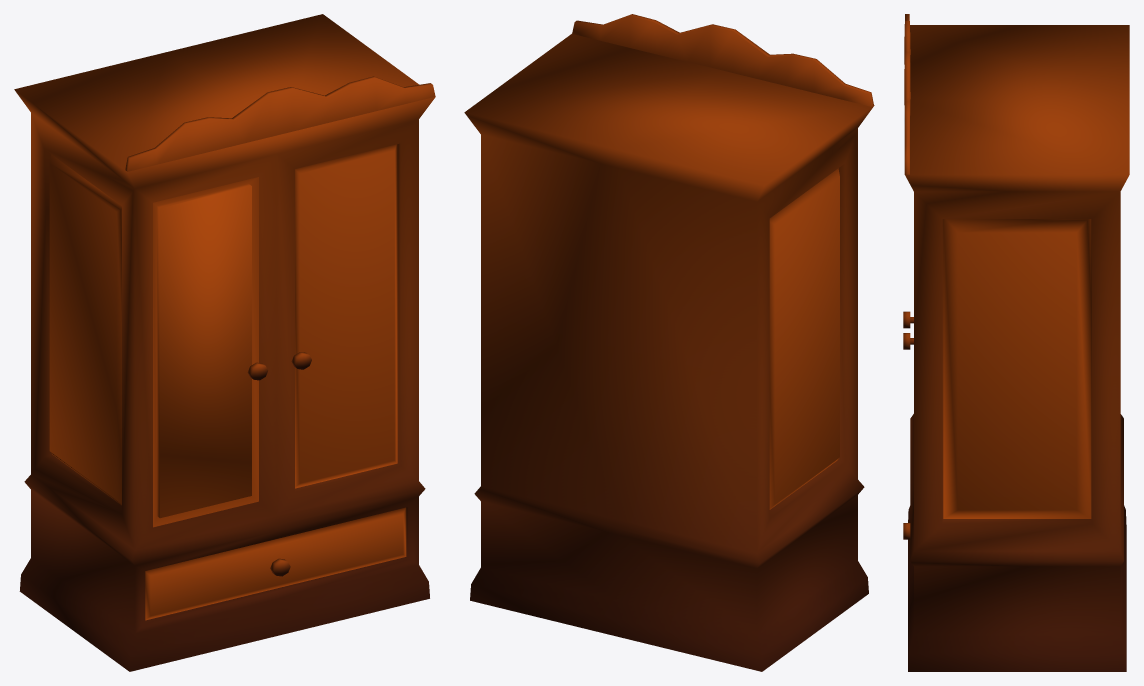
Rendered from Cabinet.fbx.
3 views of the same model, side by side, from view 1: azimuth 30°, elevation 25°; view 2: azimuth 150°, elevation 25°; view 3: azimuth 270°, elevation 25° (orthographic). The views are drawn at different scales.
Visible parts, largest first — view 1: Cabinet; view 2: Cabinet; view 3: Cabinet.
Boxes of the visible parts, x1=… form: Cabinet: x1=14, y1=14, x2=435, y2=671; Cabinet: x1=464, y1=14, x2=874, y2=671; Cabinet: x1=903, y1=14, x2=1129, y2=671.
Size of the model in its own units: 89.25 by 151 by 56.95.
1 material, 1 textured.
